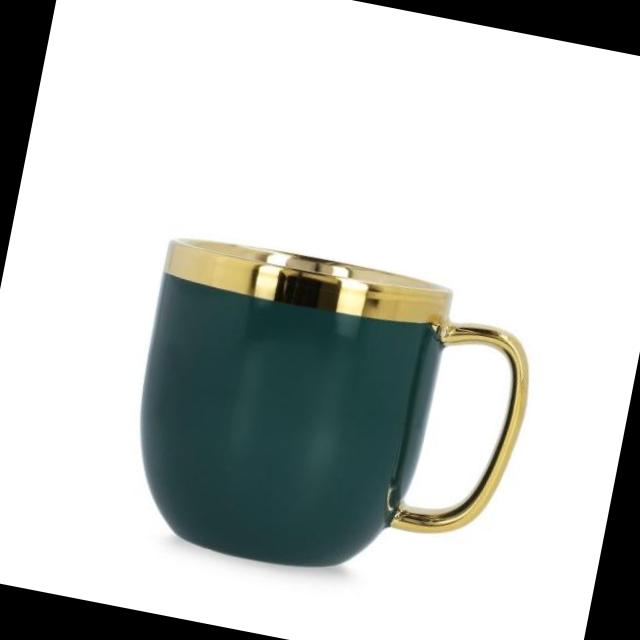Coffee Mug: (113, 230, 544, 603)
